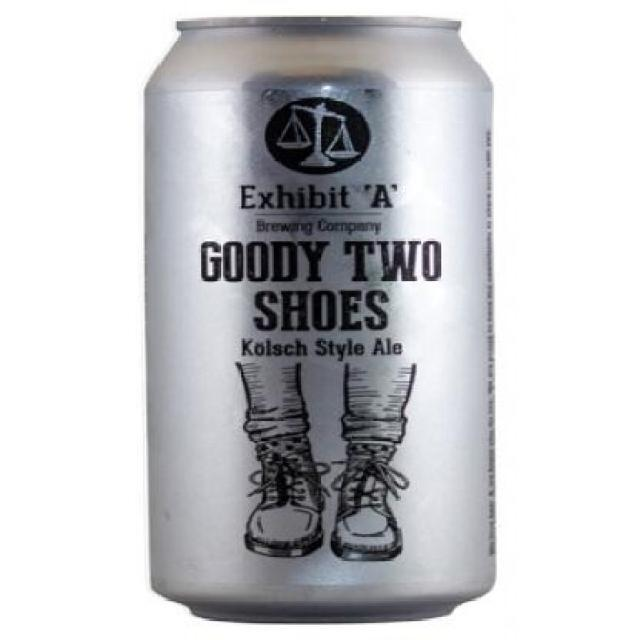can: (112, 1, 550, 640)
